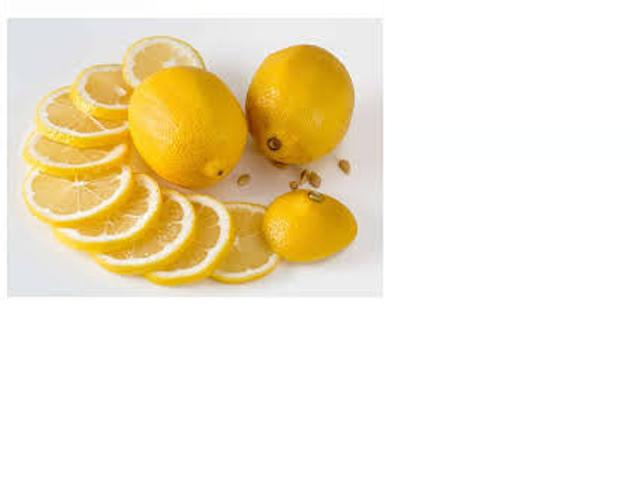lemon: (266, 180, 353, 262)
